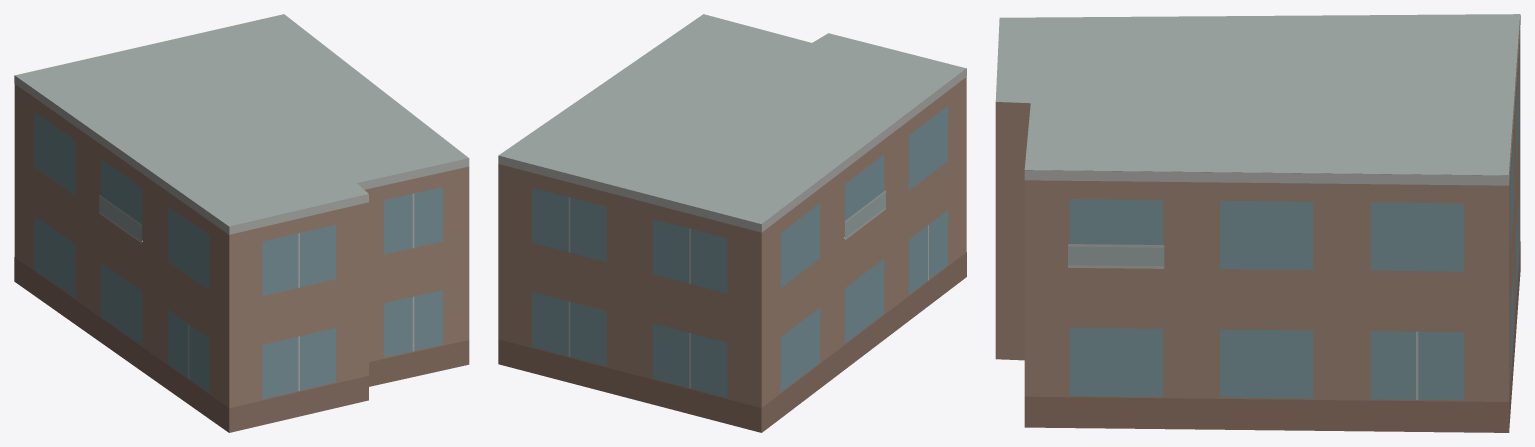
Rendered from survey-upis-33022926.glb.
3 renders of one model, left to right at view 1: azimuth 30°, elevation 25°; view 2: azimuth 150°, elevation 25°; view 3: azimuth 270°, elevation 25°, orthographic. The views are drawn at different scales.
Parts seen in each view (by area): view 1: survey-upis-33022926.tmp; view 2: survey-upis-33022926.tmp; view 3: survey-upis-33022926.tmp.
Part boxes in pixels (left/top/right/bottom): survey-upis-33022926.tmp: left=14, top=14, right=469, bottom=432; survey-upis-33022926.tmp: left=498, top=14, right=966, bottom=432; survey-upis-33022926.tmp: left=995, top=14, right=1520, bottom=432.
Bounding box in the file's own units: 8.21 × 6.1 × 11.28.
